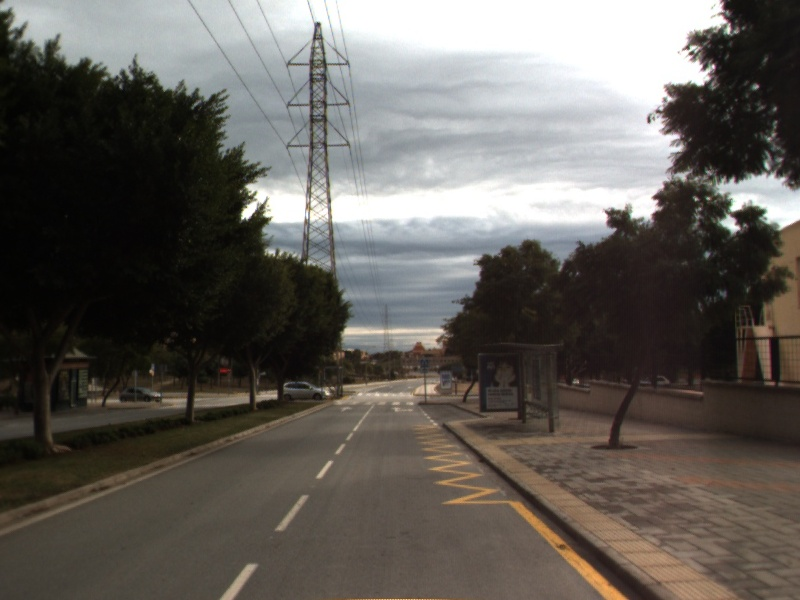STRAIGHT: (338, 404, 355, 414)
STRAIGHT_RIGHT: (389, 405, 416, 414)
